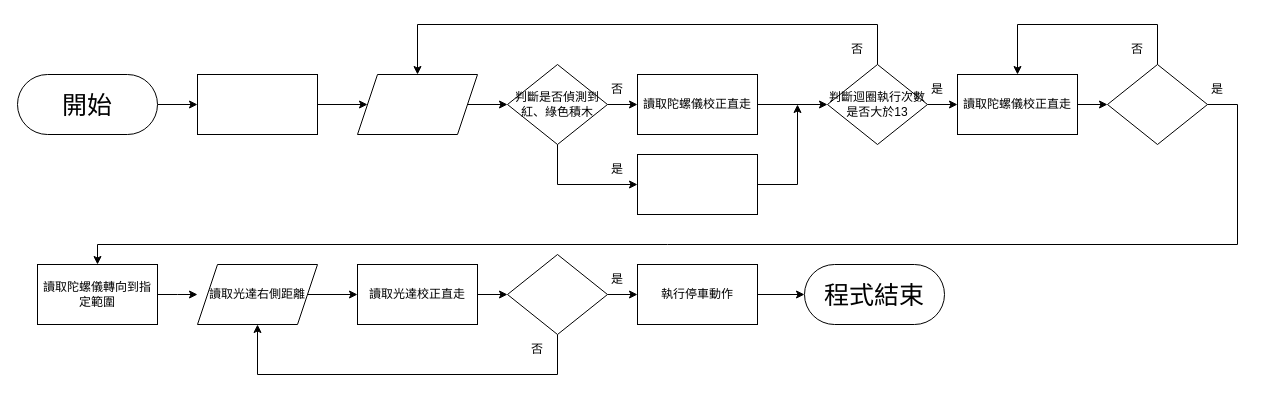
The diagram is 1265 pixels wide and 400 high, and some of its shapes have lost their labels. Here are the shapes that lost their labels. From the top down, the box of each, then its label:
(196, 74, 318, 134): 讀取陀螺儀校正轉彎
(356, 74, 478, 134): 讀取鏡頭畫面偵測紅、綠色積木以及黑色圍牆
(1106, 64, 1208, 144): 判斷光感是否偵測到線
(636, 154, 758, 214): 執行閃避動作
(506, 254, 608, 334): 判斷光達右側距離是否小於設定距離
